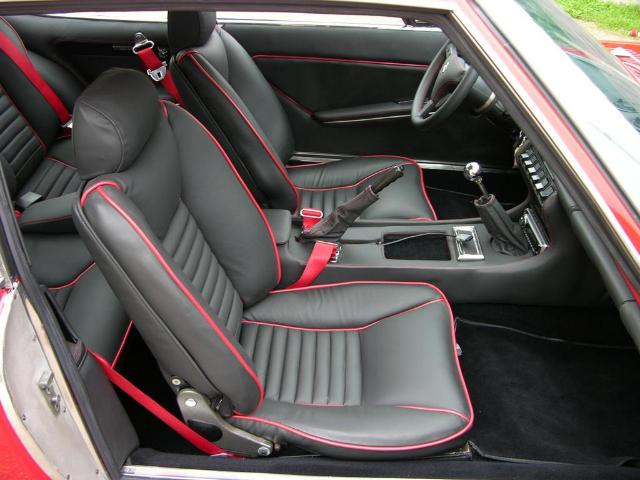Seatbelt: (82, 349, 245, 457), (280, 202, 338, 288), (141, 32, 181, 106)
